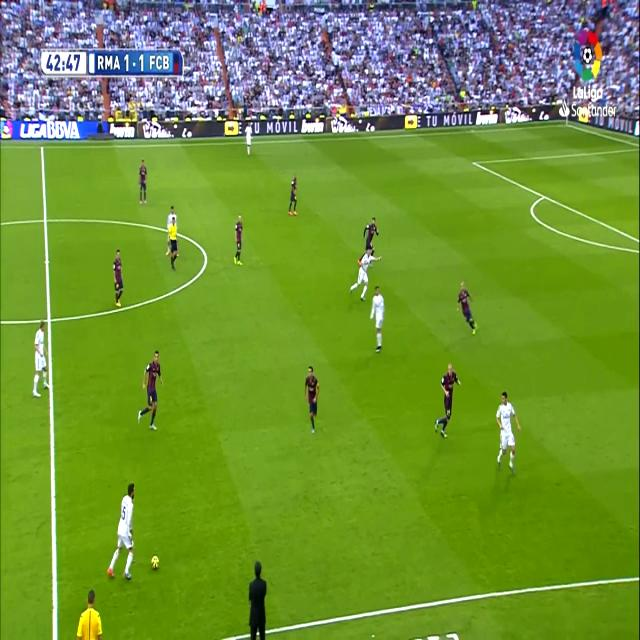corner: (562, 119, 570, 130)
halfcircle_bottom: (43, 305, 55, 332)
halfcircle_top: (40, 210, 50, 232)
midline_top_intersection: (39, 141, 45, 153)
top_arc_area_intersection: (540, 188, 548, 203)
